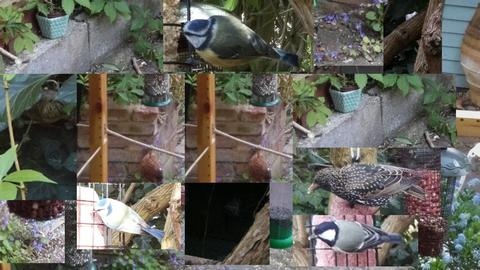blue tit: (178, 15, 299, 69), (92, 198, 166, 241)
great tit: (308, 219, 403, 254)
starling: (308, 163, 426, 208)
